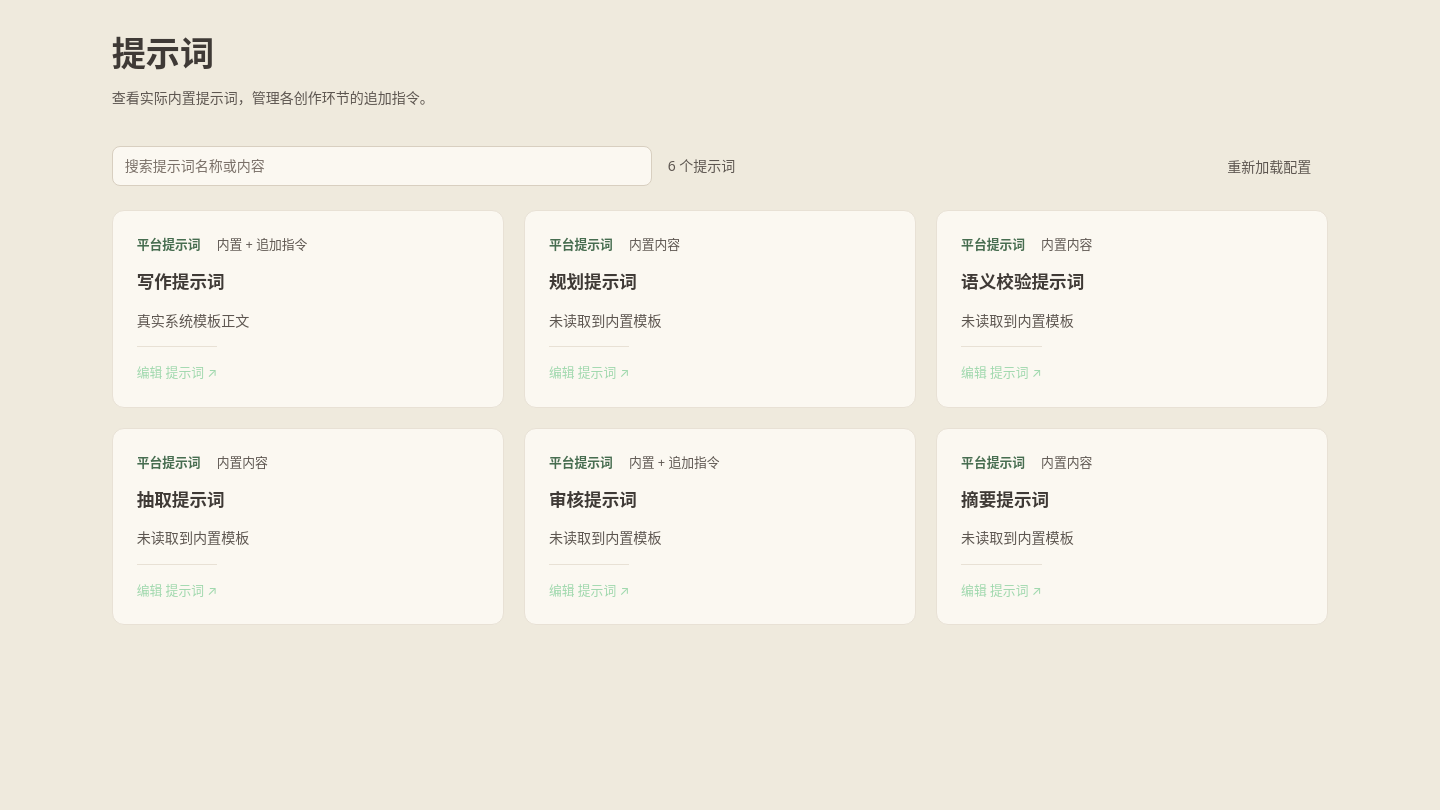
Test: shows prompt cards and opens only the clicked prompt editor
Click the button with aria-label "编辑 写作提示词": (169, 244) x1=112 y1=210 x2=504 y2=408
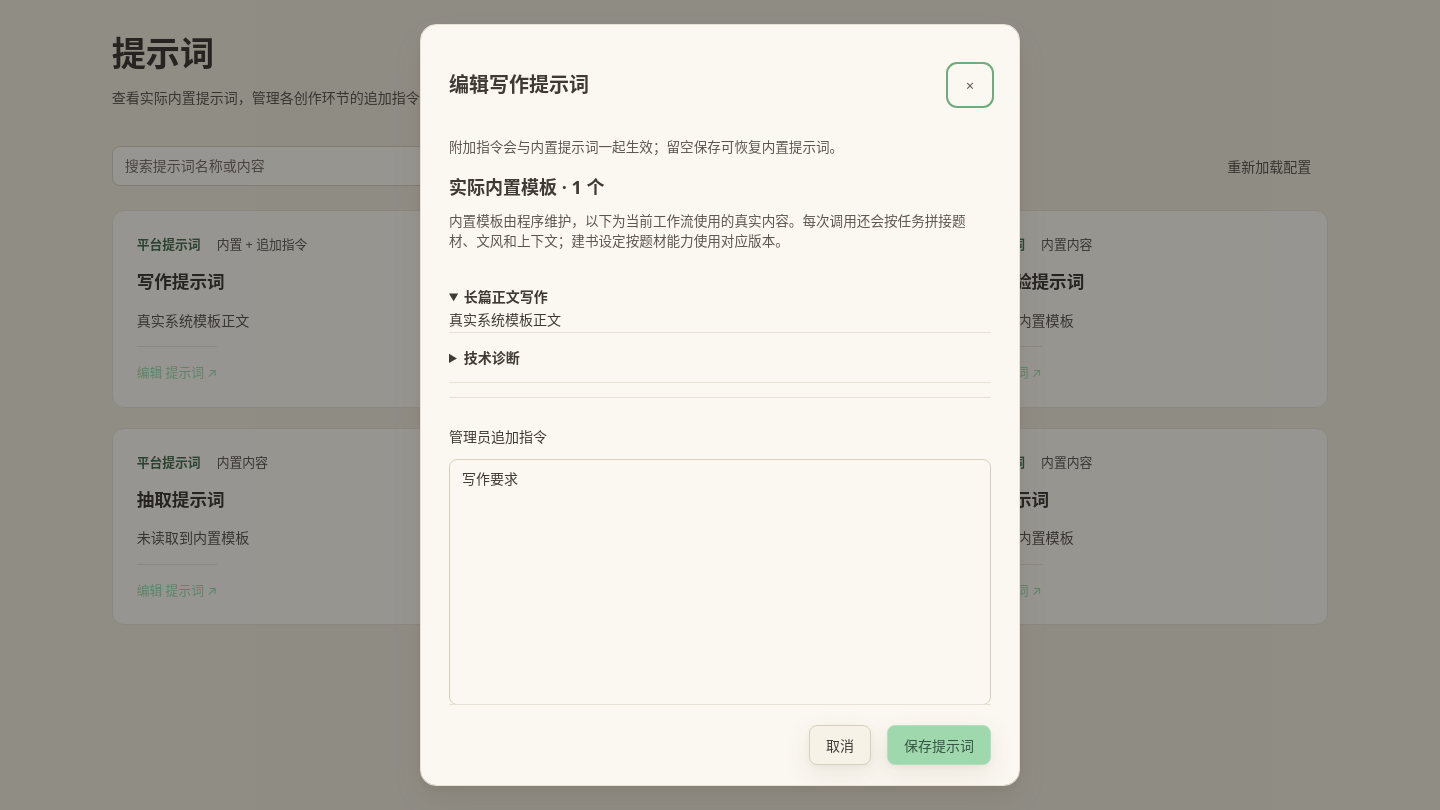
Expected: the dialog "编辑写作提示词" is shown, x1=420 y1=24 x2=1020 y2=786
Expected: the text box labelled "管理员追加指令" holds "写作要求"
Replace the text in the text box labelled "管理员追加指令" with "未保存": (720, 582) x1=449 y1=459 x2=991 y2=705
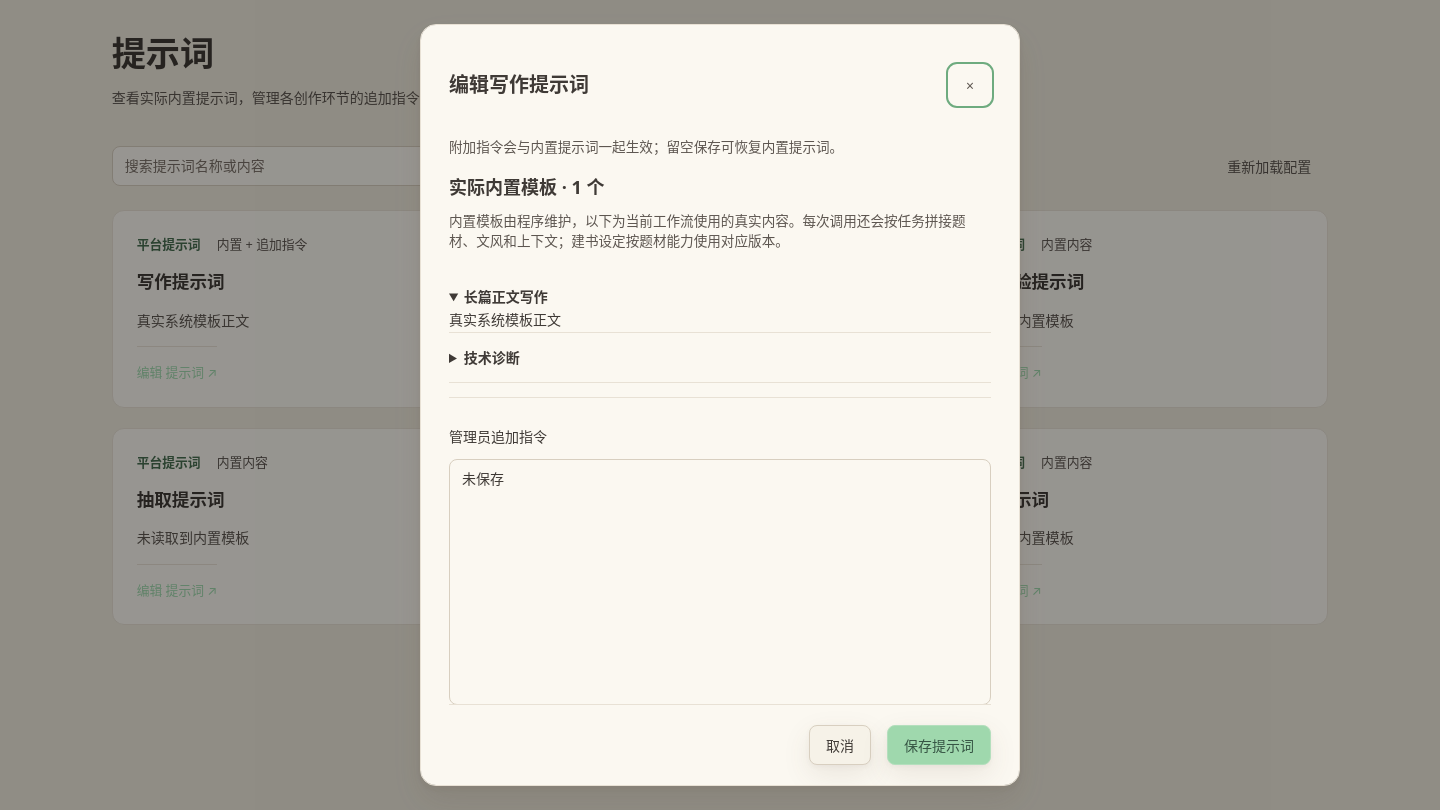
Click the button "取消": (840, 745) x1=809 y1=725 x2=871 y2=765
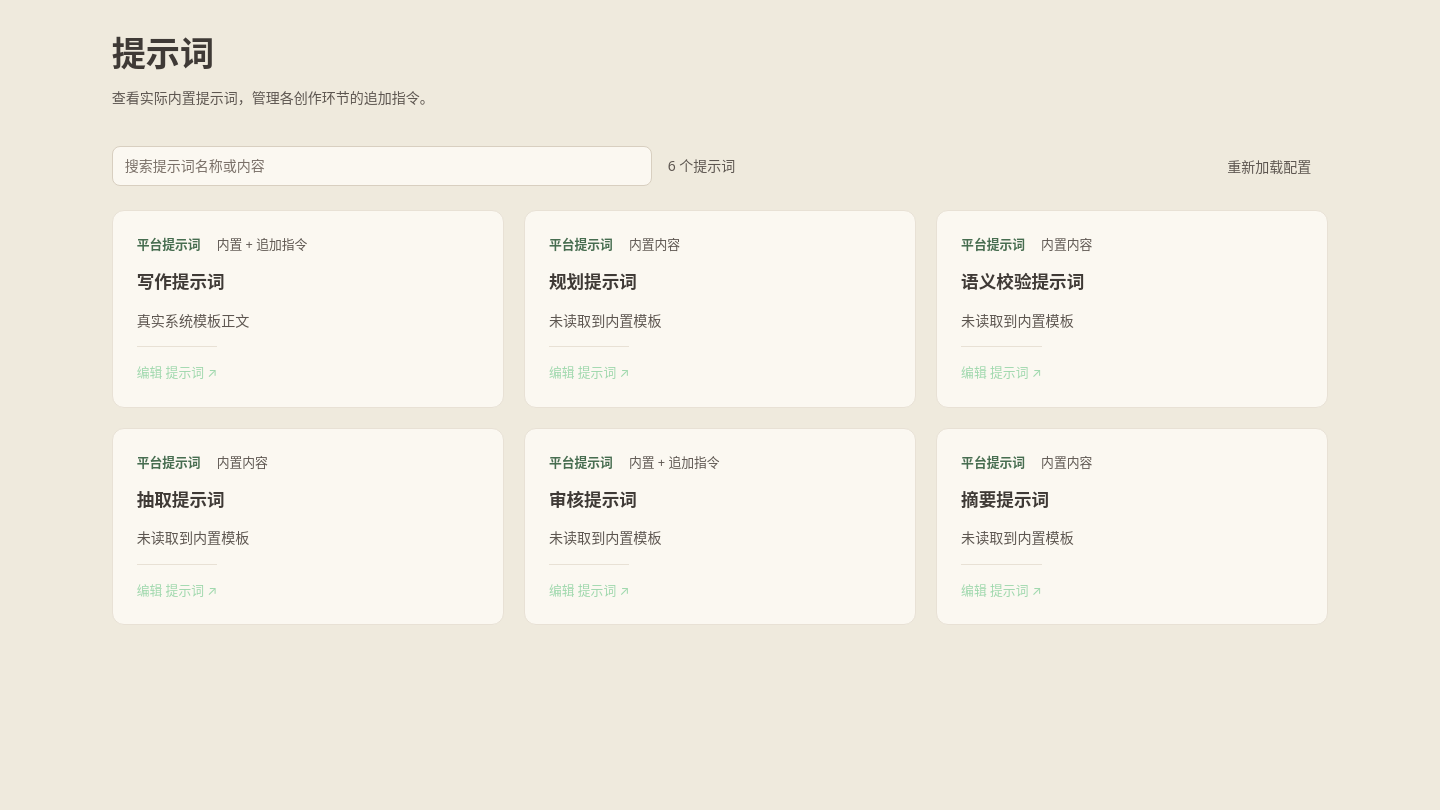
Expected: the dialog is gone
